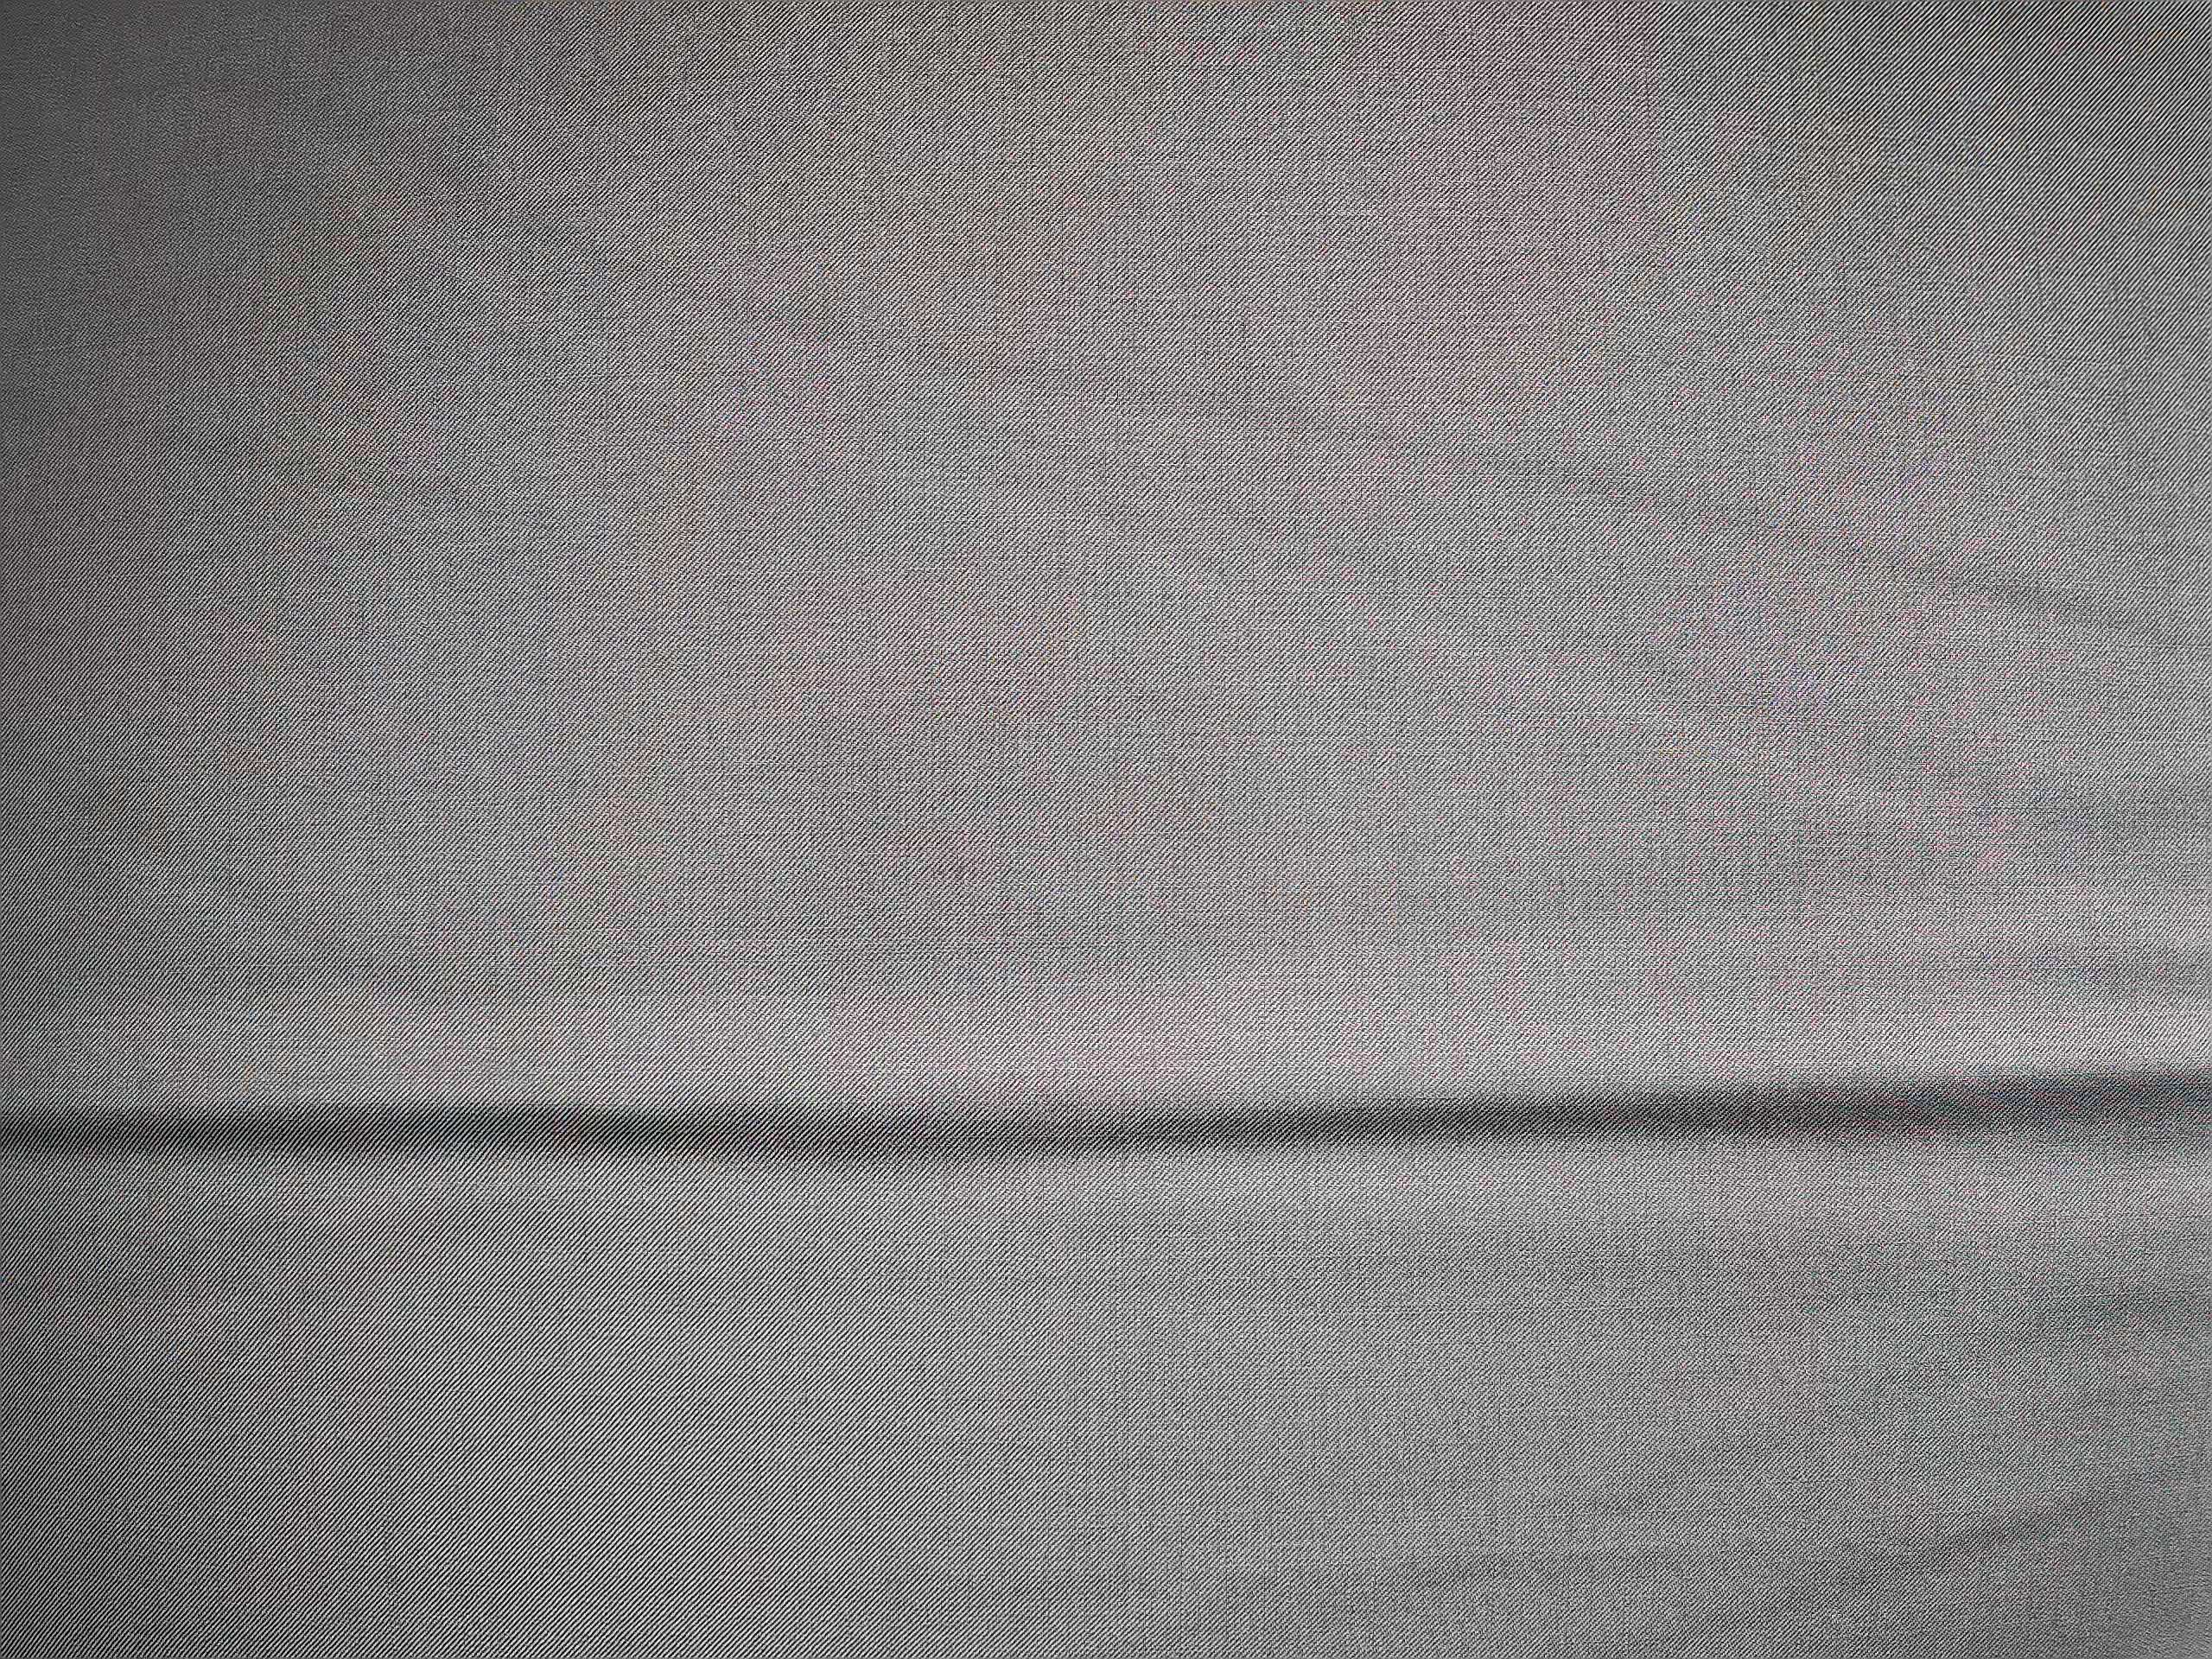stains: (723, 615, 1280, 1061)
